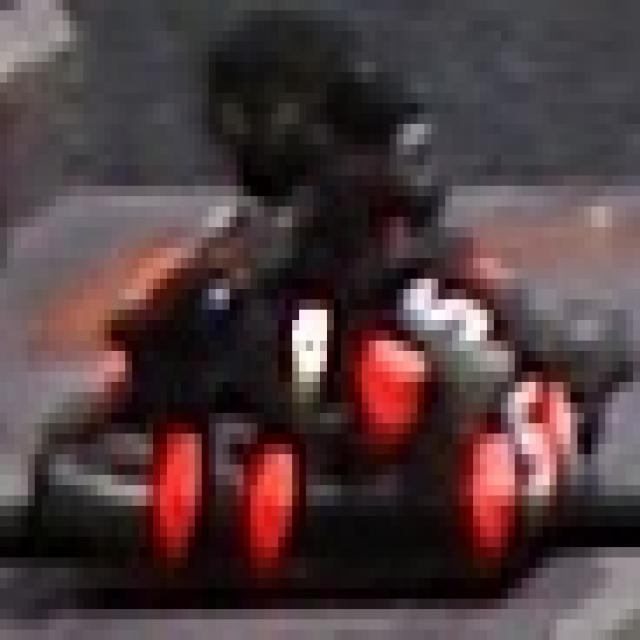R5: (139, 413, 292, 557), (466, 361, 577, 537)
